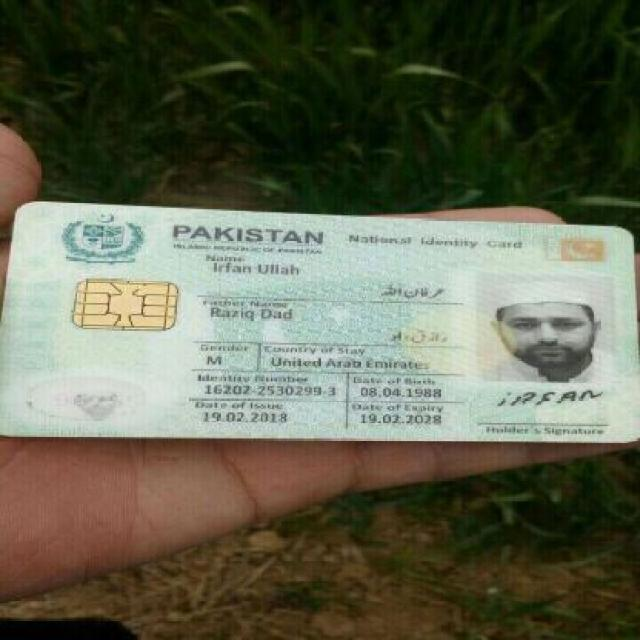Front: (6, 195, 632, 456)
